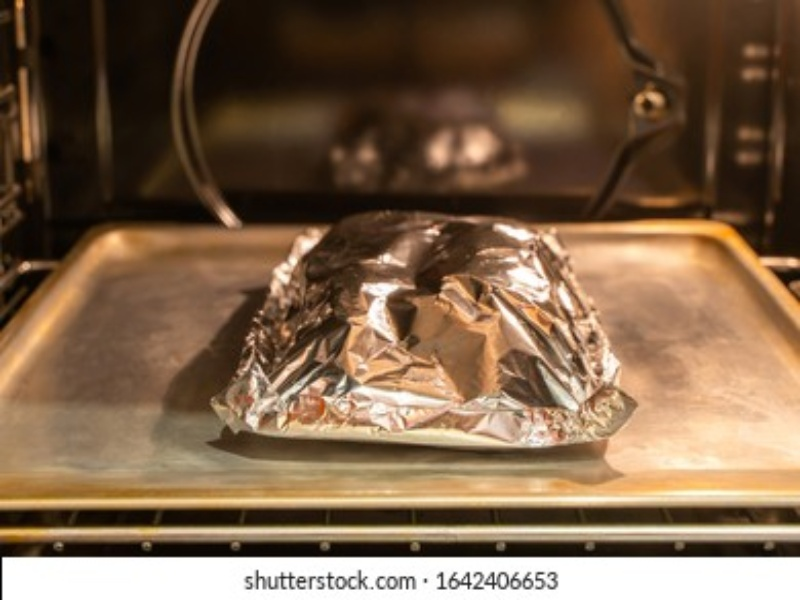Aluminium_Foil: (209, 211, 638, 463)
